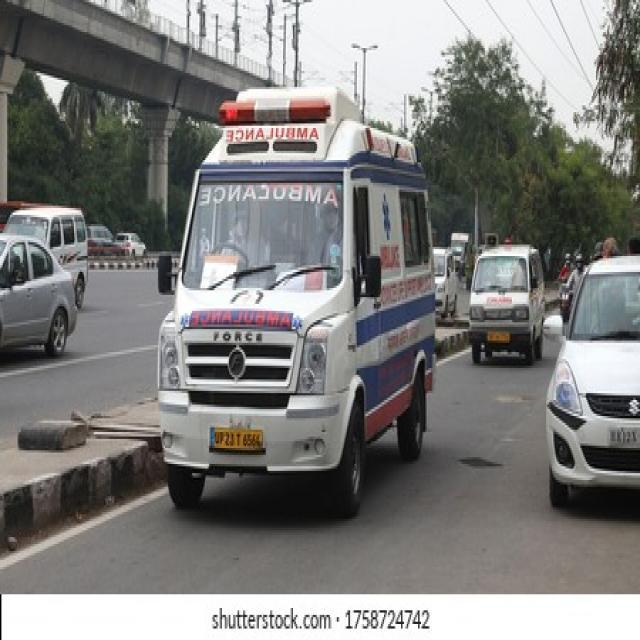emergency-vehicle: (132, 36, 441, 512)
